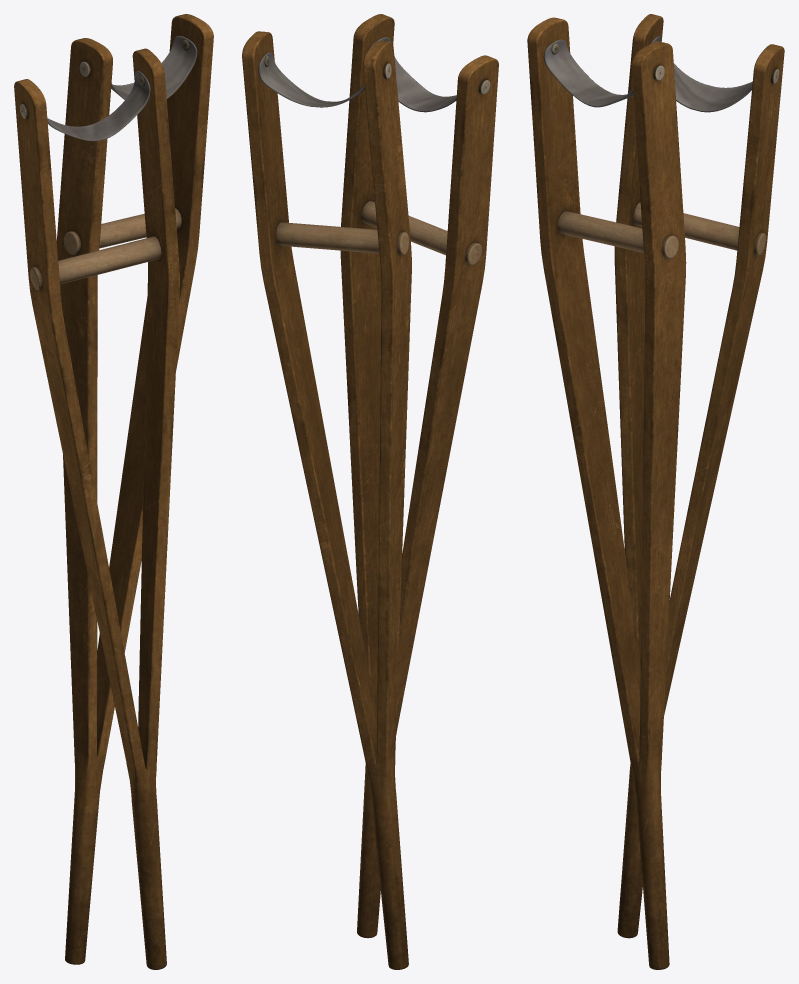
Rendered from vintage_crutches_01.glb.
3 views of the same model, side by side, from view 1: azimuth 30°, elevation 25°; view 2: azimuth 150°, elevation 25°; view 3: azimuth 330°, elevation 25° (orthographic).
Visible parts, largest first — view 1: vintage_crutches_01_crutch01, vintage_crutches_01_crutch02; view 2: vintage_crutches_01_crutch02, vintage_crutches_01_crutch01; view 3: vintage_crutches_01_crutch01, vintage_crutches_01_crutch02.
Boxes of the visible parts, <box> form: vintage_crutches_01_crutch01: <box>14,48,179,969</box>; vintage_crutches_01_crutch02: <box>56,14,213,964</box>; vintage_crutches_01_crutch02: <box>242,31,411,969</box>; vintage_crutches_01_crutch01: <box>340,14,498,938</box>; vintage_crutches_01_crutch01: <box>527,17,686,969</box>; vintage_crutches_01_crutch02: <box>614,14,784,938</box>.
Size of the model in its own units: 0.3838 by 1.6 by 0.2036.
Materials: 1 (1 with a texture image).
